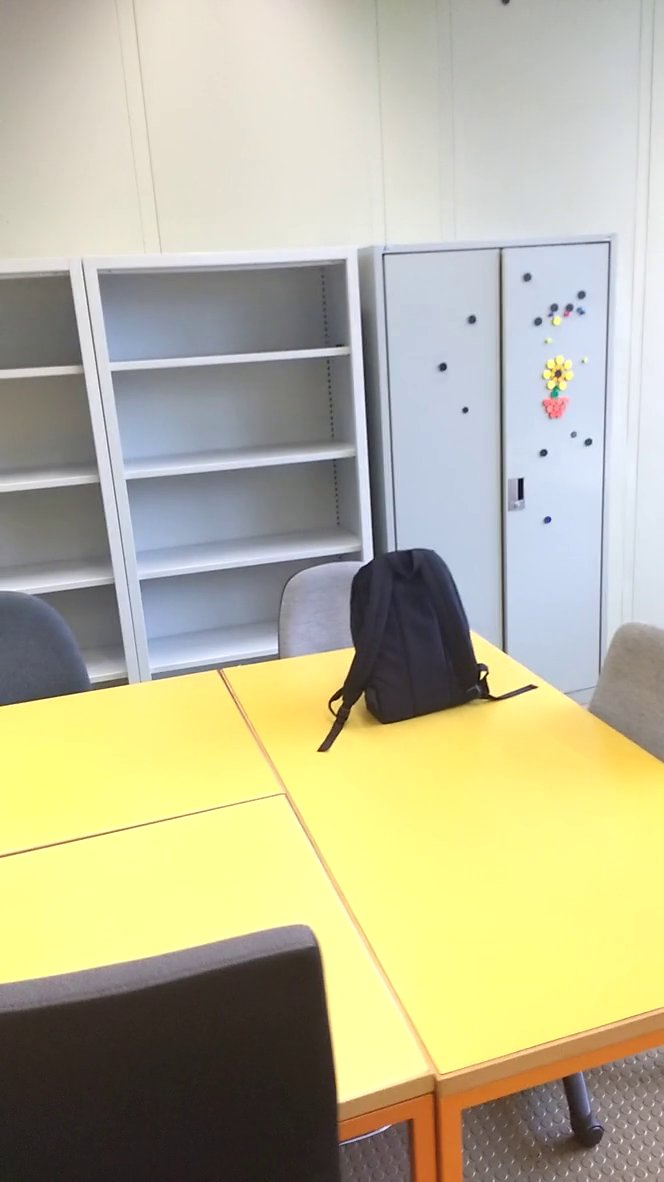bag: (310, 546, 552, 757)
chair: (246, 553, 393, 668)
